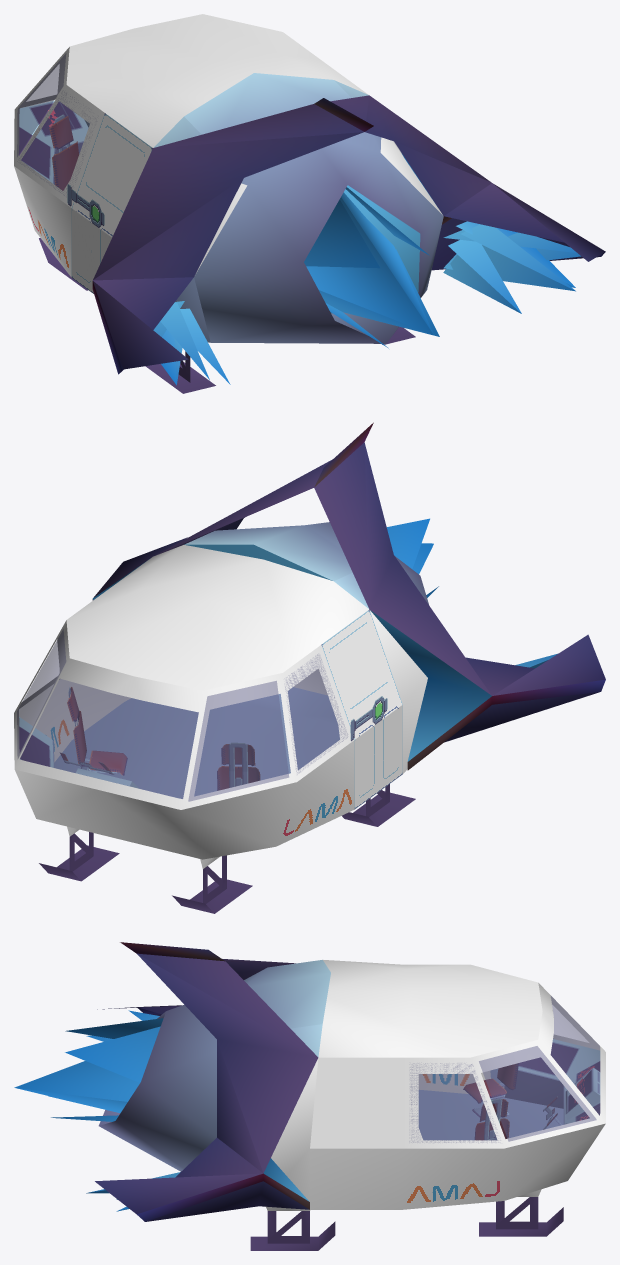
File: spaceship.gltf
The picture shows the model from 3 angles, top to bottom: view 1: azimuth 30°, elevation 25°; view 2: azimuth 150°, elevation 25°; view 3: azimuth 270°, elevation 25°; orthographic projection. The views are drawn at different scales.
Parts seen in each view (by area): view 1: spaceship, wing, flame, door, window, cockpit, seat_left, landing_gear_rear_left; view 2: spaceship, window, wing, door, flame, landing_gear_front_left, landing_gear_front_right, seat_left, seat_right, landing_gear_rear_left, cockpit; view 3: spaceship, wing, window, flame, cockpit, landing_gear_rear_right, landing_gear_front_right, seat_left, monitor, seat_right.
Part boxes in pixels (x1,y1,x2,y2): spaceship: (14, 14, 443, 343); wing: (92, 95, 605, 374); flame: (153, 154, 581, 385); door: (71, 113, 152, 293); window: (17, 53, 96, 195); cockpit: (19, 100, 88, 184); seat_left: (49, 114, 78, 190); landing_gear_rear_left: (145, 351, 215, 393); spaceship: (14, 522, 428, 859); window: (17, 629, 347, 801); wing: (92, 422, 605, 770); door: (321, 609, 402, 809); flame: (92, 518, 557, 761); landing_gear_front_left: (172, 855, 252, 913); landing_gear_front_right: (39, 826, 119, 881); seat_left: (217, 742, 260, 790); seat_right: (67, 687, 127, 775); landing_gear_rear_left: (342, 784, 415, 826); cockpit: (19, 717, 54, 767); spaceship: (98, 959, 605, 1209); wing: (95, 942, 318, 1221); window: (409, 996, 600, 1142); flame: (14, 1010, 309, 1211); cockpit: (490, 1039, 600, 1124); landing_gear_rear_right: (250, 1206, 335, 1250); landing_gear_front_right: (479, 1189, 563, 1236); seat_left: (463, 1063, 518, 1117); monitor: (565, 1068, 600, 1119); seat_right: (474, 1098, 509, 1140).
Bounding box in the file's own units: 7.25 × 4.22 × 8.75.
Materials: 4 (4 with a texture image).
